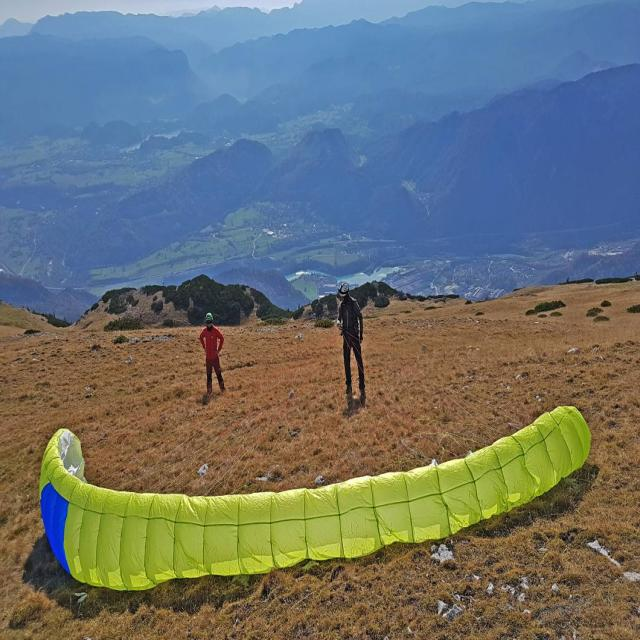paraglider: (39, 404, 592, 592)
